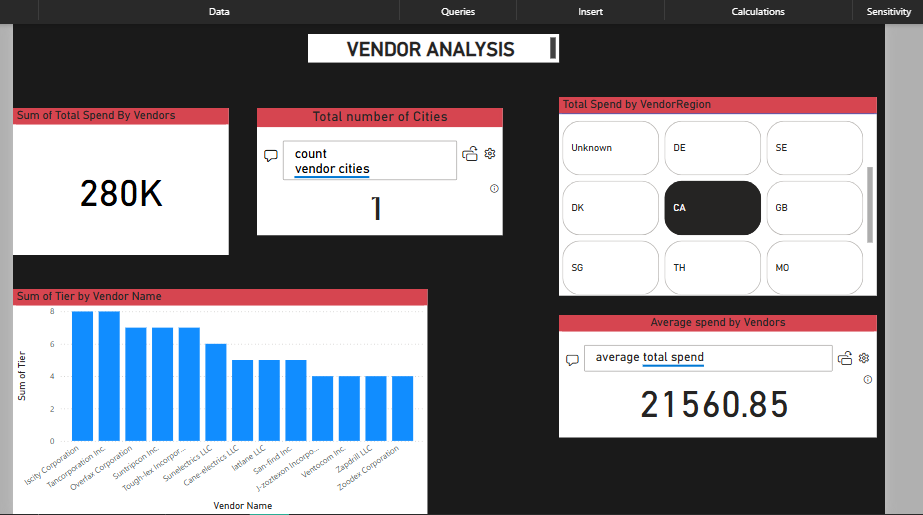

This screenshot's page, from the dashboard's own definition file:
{"tool":"powerbi","page":{"name":"Vendor Analysis","canvas":[1280,720],"ordinal":0},"visuals":[{"type":"card","title":"Sum of Total Spend By Vendors","fields":{"Values":["Sum(Sheet1.Total Spend)"]},"box":[0,123.8,316.8,216],"z":0},{"type":"columnChart","fields":{"Y":["Sum(Sheet1.Tier)"],"Category":["Sheet1.Vendor Name"]},"box":[0,388.8,609.1,331.2],"z":1000},{"type":"advancedSlicerVisual","title":"Total Spend by VendorRegion","fields":{"Values":["Sheet1.Vendor Country/Region"]},"box":[802.1,106.6,466.6,292.3],"z":2000},{"type":"textbox","box":[433.4,14.4,368.6,41.8],"z":3000},{"type":"qnaVisual","title":"Average spend by Vendors","box":[802.1,427.7,466.6,180],"z":4000},{"type":"qnaVisual","title":"Total number of Cities","box":[358.6,123.8,361.4,187.2],"z":4001}]}

Visuals, with their boxes in screenshot pixels (x1, y1, x2, y2):
"Sum of Total Spend By Vendors" card: detection(10, 106, 225, 253)
columnChart - Sum(Sheet1.Tier) x Sheet1.Vendor Name: detection(10, 286, 424, 511)
"Total Spend by VendorRegion" advancedSlicerVisual: detection(555, 94, 872, 293)
textbox: detection(304, 31, 555, 60)
"Average spend by Vendors" qnaVisual: detection(555, 312, 872, 435)
"Total number of Cities" qnaVisual: detection(253, 106, 499, 233)
